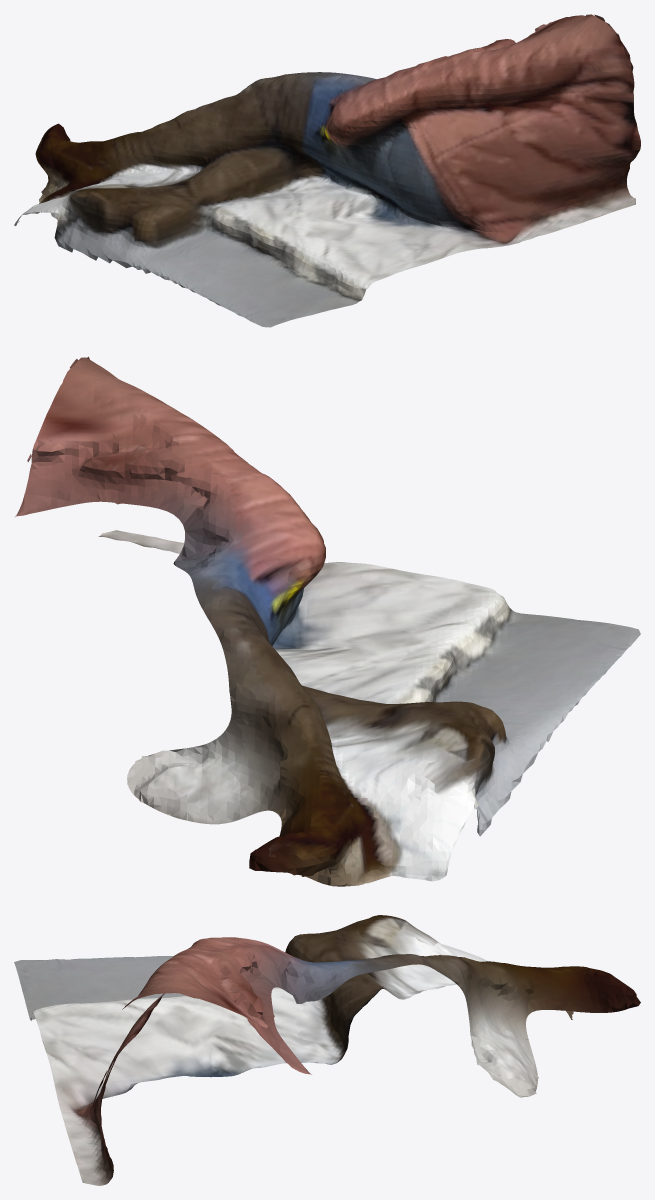
3 renders of one model, top to bottom at view 1: azimuth 30°, elevation 25°; view 2: azimuth 150°, elevation 25°; view 3: azimuth 270°, elevation 25°, orthographic. The views are drawn at different scales.
Size of the model in its own units: 1.01 by 0.4451 by 1.03.
Materials: 1 (1 with a texture image).
